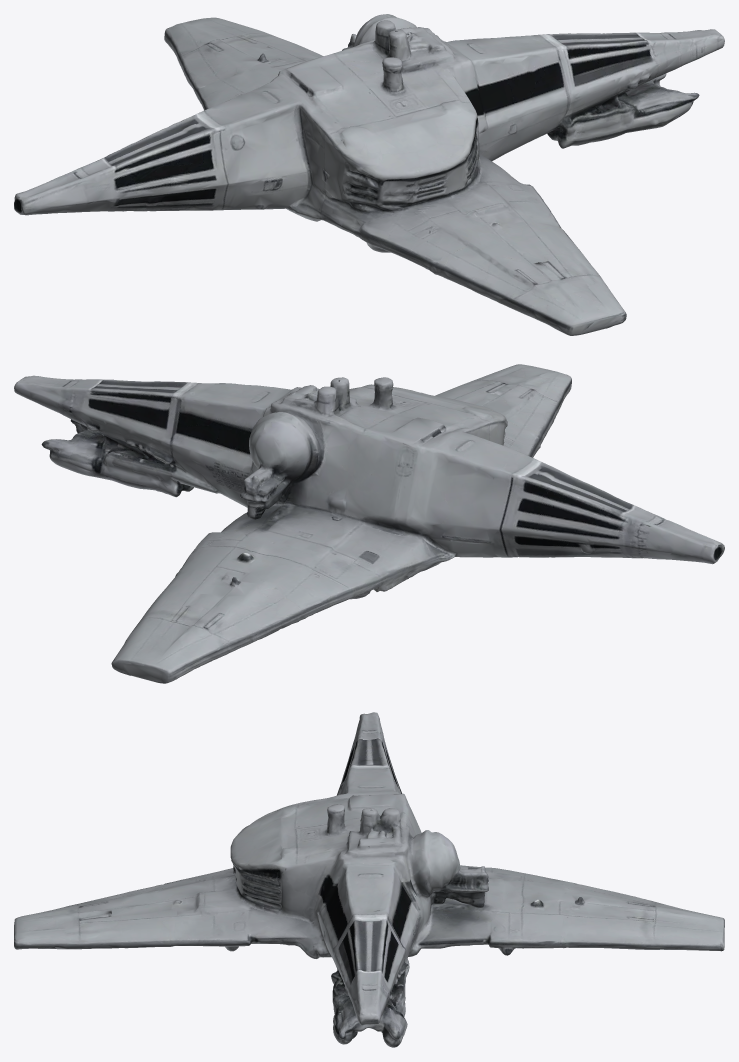
Rendered from apex-cosmos-sonda.glb.
The picture shows the model from 3 angles, top to bottom: view 1: azimuth 30°, elevation 25°; view 2: azimuth 150°, elevation 25°; view 3: azimuth 270°, elevation 25°; orthographic projection. The views are drawn at different scales.
Bounding box in the file's own units: 2 × 0.5306 × 2.
Materials: 1 (1 with a texture image).
